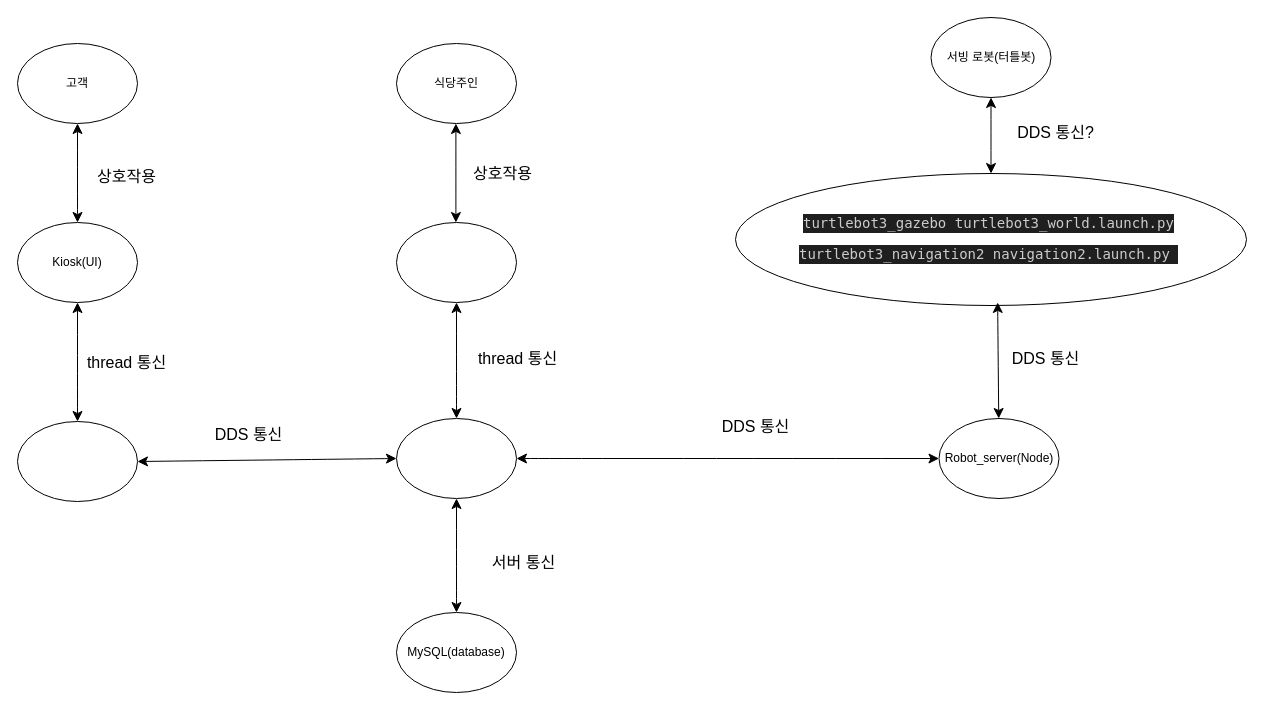
The diagram is 1264 pixels wide and 710 high, and some of its shapes have lost their labels. The shapes that lost their labels are listed below. From the top down, each one's centre as x and y in pixels, then its label:
the point at 456,262: Kitchen(UI)
the point at 77,461: Kiosk_server(Node)
the point at 456,458: Kitchen_server(Node)
